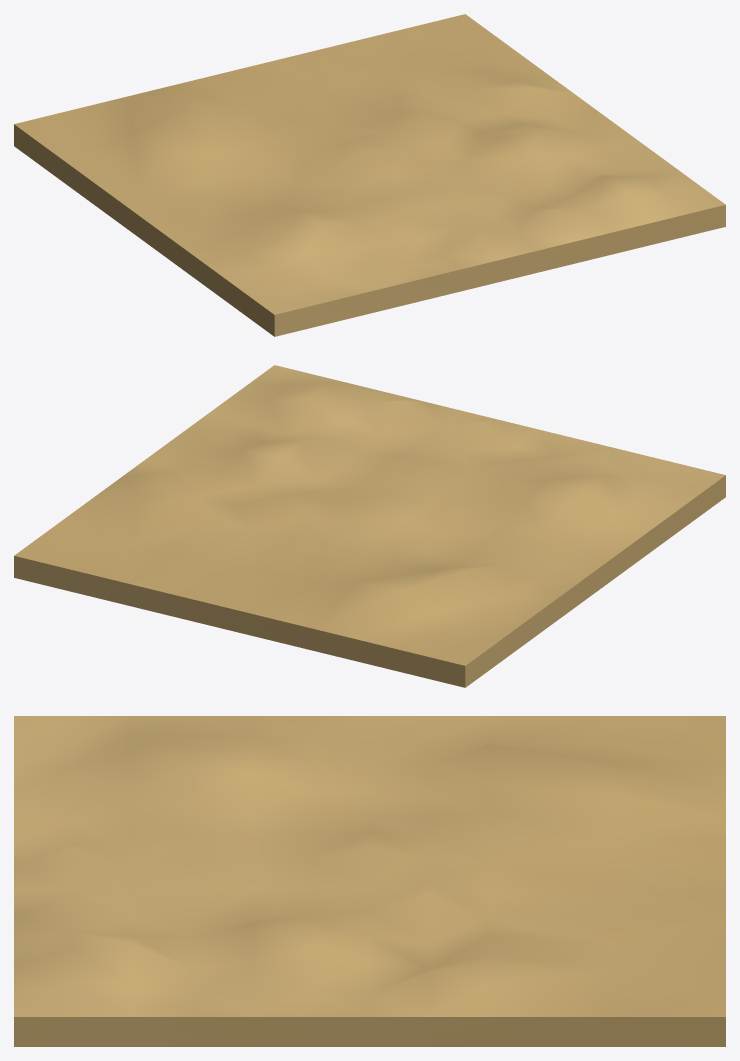
File: ground_1.dae
3 views of the same model, one above another, from view 1: azimuth 30°, elevation 25°; view 2: azimuth 150°, elevation 25°; view 3: azimuth 270°, elevation 25° (orthographic). The views are drawn at different scales.
Visible parts, largest first — view 1: ground_1; view 2: ground_1; view 3: ground_1.
Boxes of the visible parts, left/top/right/bottom form: ground_1: left=14, top=14, right=725, bottom=336; ground_1: left=14, top=365, right=725, bottom=687; ground_1: left=14, top=716, right=725, bottom=1046.
Bounding box in the file's own units: 2 × 2 × 0.1653.
